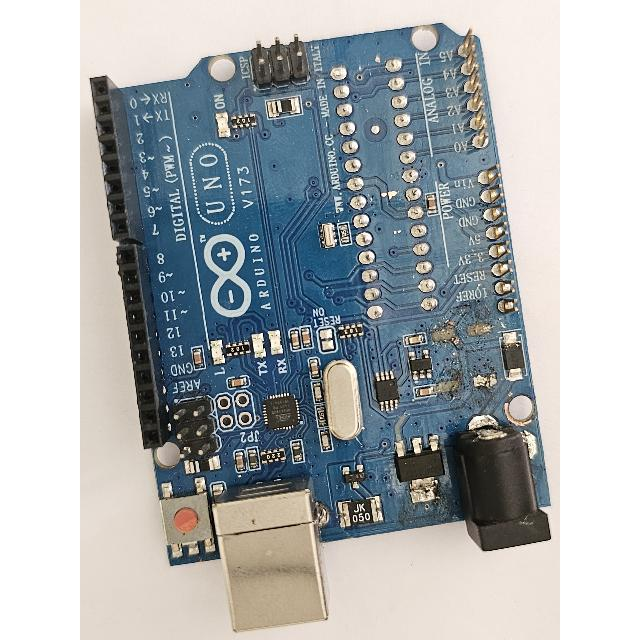missing_analog_pins: (455, 15, 532, 326)
missing_atmega: (324, 47, 452, 328)
missing_capacitors: (433, 313, 506, 402)
